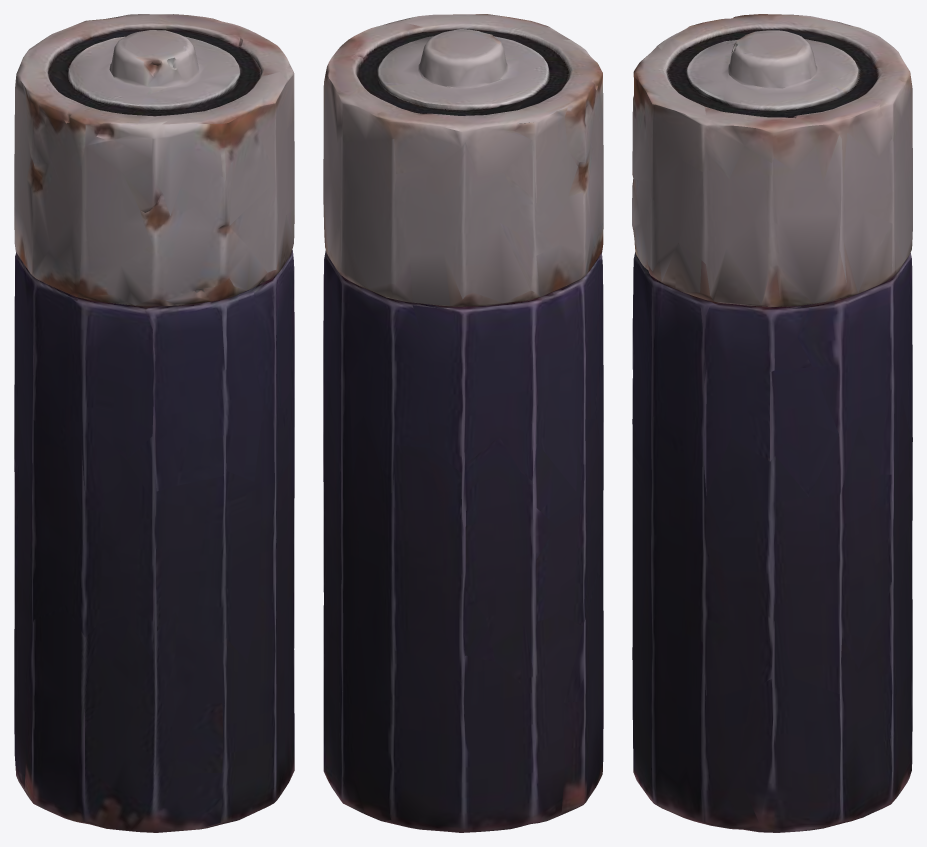
The model's file is battery_cell_odnorazovaya_idle.glb.
3 views of the same model, side by side, from view 1: azimuth 30°, elevation 25°; view 2: azimuth 150°, elevation 25°; view 3: azimuth 270°, elevation 25° (orthographic).
Parts seen in each view (by area): view 1: tripo_node_cf242a76-aa8b-454d-8a5c-fb52c867de0f; view 2: tripo_node_cf242a76-aa8b-454d-8a5c-fb52c867de0f; view 3: tripo_node_cf242a76-aa8b-454d-8a5c-fb52c867de0f.
Boxes of the visible parts, <box> form: tripo_node_cf242a76-aa8b-454d-8a5c-fb52c867de0f: <box>14,14,294,832</box>; tripo_node_cf242a76-aa8b-454d-8a5c-fb52c867de0f: <box>323,14,603,832</box>; tripo_node_cf242a76-aa8b-454d-8a5c-fb52c867de0f: <box>632,14,912,832</box>.
Size of the model in its own units: 0.0208 by 0.06 by 0.0209.
1 material, 1 textured.
